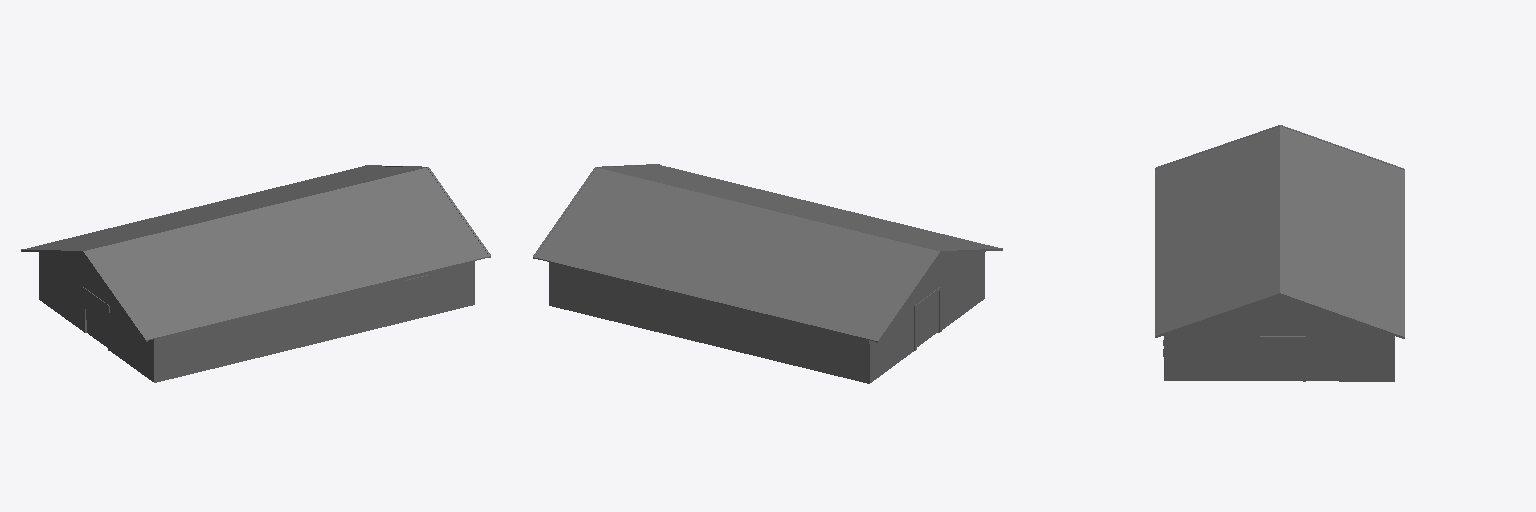
File: casa2.obj
The picture shows the model from 3 angles: view 1: azimuth 30°, elevation 25°; view 2: azimuth 150°, elevation 25°; view 3: azimuth 270°, elevation 25°; orthographic projection.
Visible parts, largest first — view 1: stall_dach, stall; view 2: stall_dach, stall; view 3: stall_dach, stall, stall_dach001.
Part boxes in pixels (x1,y1,x2,y2): stall_dach: (27,166,490,340); stall: (39,252,474,382); stall_dach: (534,165,997,341); stall: (549,252,984,383); stall_dach: (1155,126,1404,335); stall: (1164,296,1394,381); stall_dach001: (1155,292,1404,338).
Bounding box in the file's own units: 17.31 × 4.51 × 10.86.